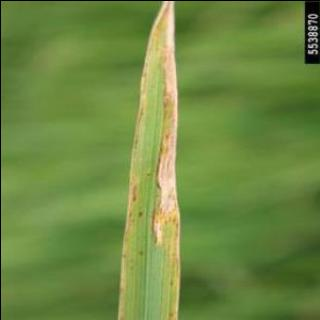Hawar-Daun: (120, 0, 182, 320)
